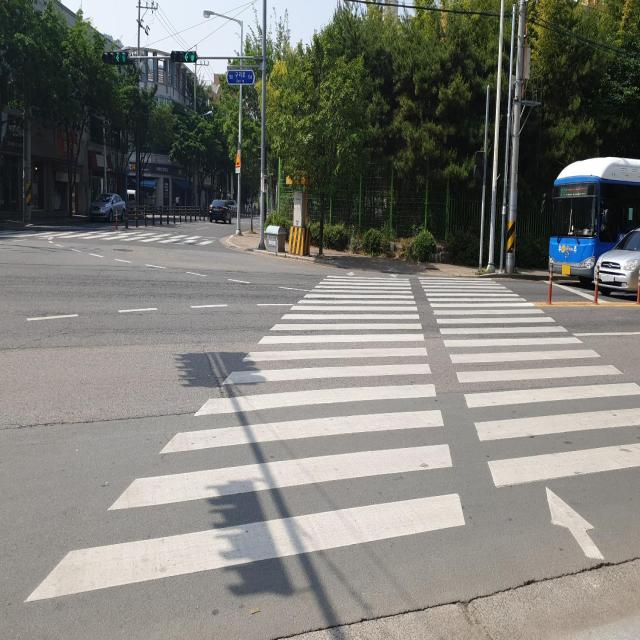횡단보도: (20, 269, 640, 608), (0, 219, 222, 253)
